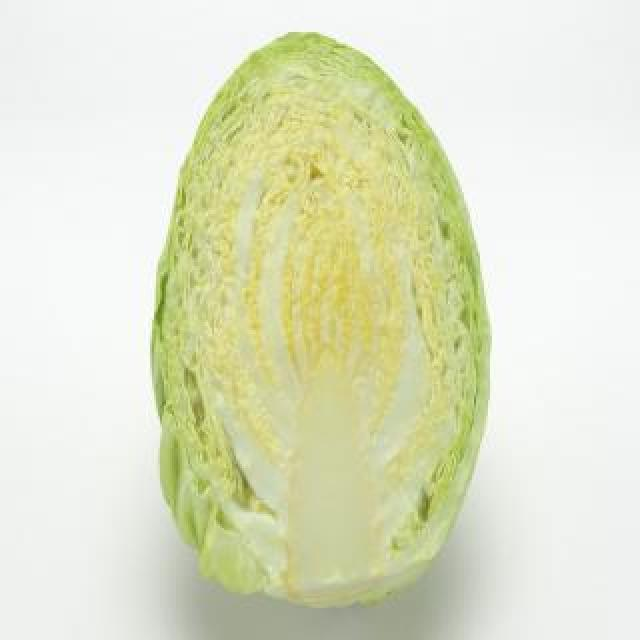cabbage: (151, 29, 494, 620)
